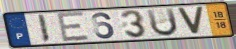3: (119, 9, 149, 40)
6: (91, 11, 116, 39)
E: (55, 11, 91, 43)
I: (36, 13, 52, 44)
U: (145, 7, 180, 38)
V: (175, 6, 206, 36)
